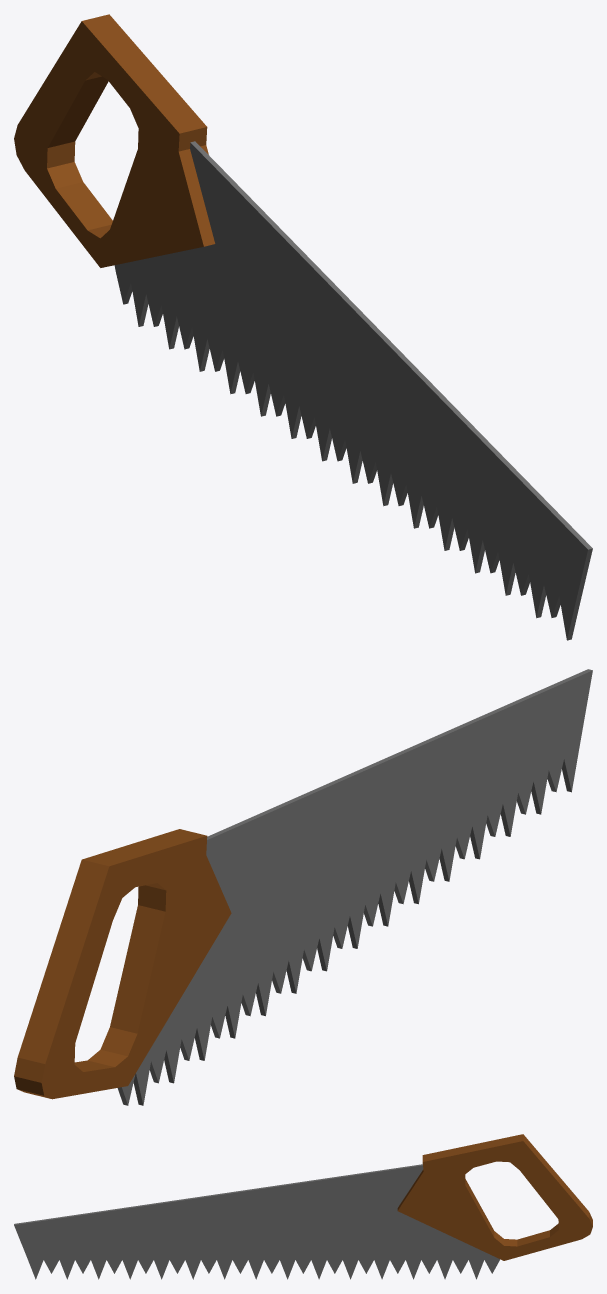
File: Saw.fbx
3 renders of one model, top to bottom at view 1: azimuth 30°, elevation 25°; view 2: azimuth 150°, elevation 25°; view 3: azimuth 270°, elevation 25°, orthographic. The views are drawn at different scales.
Parts seen in each view (by area): view 1: Saw; view 2: Saw; view 3: Saw.
Part boxes in pixels (left/top/right/bottom): Saw: left=14, top=14, right=592, bottom=640; Saw: left=14, top=669, right=592, bottom=1105; Saw: left=14, top=1134, right=592, bottom=1279.
Bounding box in the file's own units: 0.0522 × 0.497 × 1.84.
